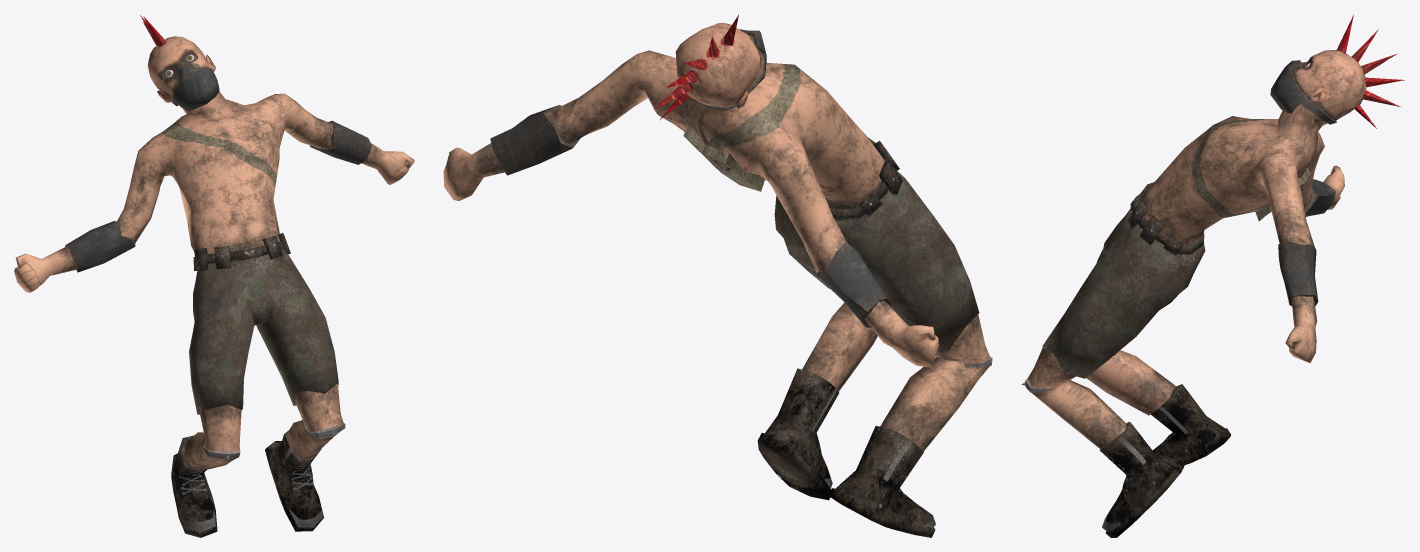
The model's file is Anim_morir_1_npc2.0022.obj.
The picture shows the model from 3 angles, left to right: view 1: azimuth 30°, elevation 25°; view 2: azimuth 150°, elevation 25°; view 3: azimuth 270°, elevation 25°; orthographic projection. The views are drawn at different scales.
Parts seen in each view (by area): view 1: polySurface1; view 2: polySurface1; view 3: polySurface1.
Boxes of the visible parts, x1,y1,x2,y2 form: polySurface1: [14, 15, 414, 537]; polySurface1: [443, 14, 992, 537]; polySurface1: [1021, 14, 1404, 537].
Size of the model in its own units: 7.09 by 8.06 by 5.7.
